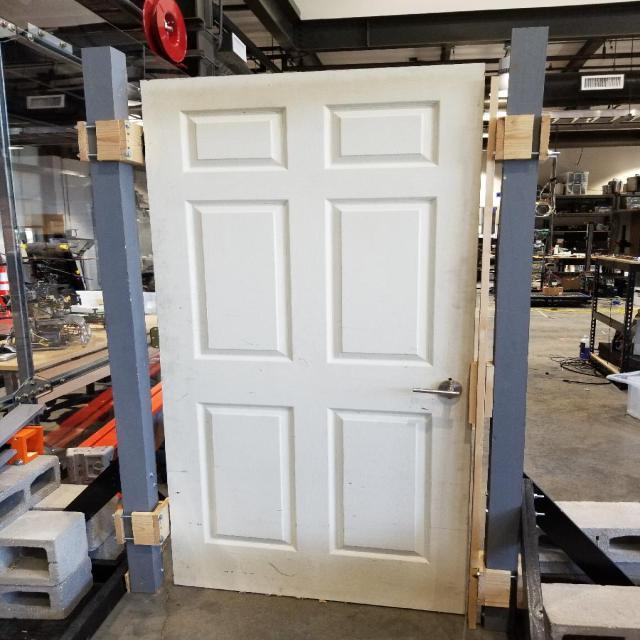door: (138, 60, 492, 621), (412, 376, 466, 402)
